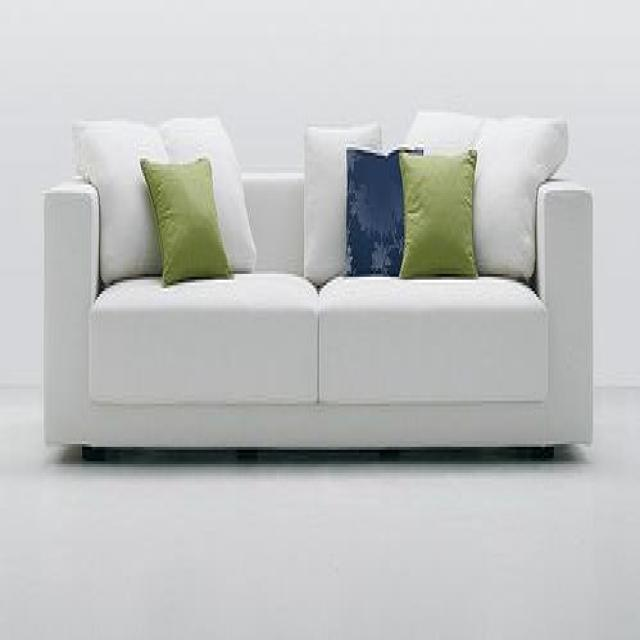sofa: (40, 109, 596, 462)
